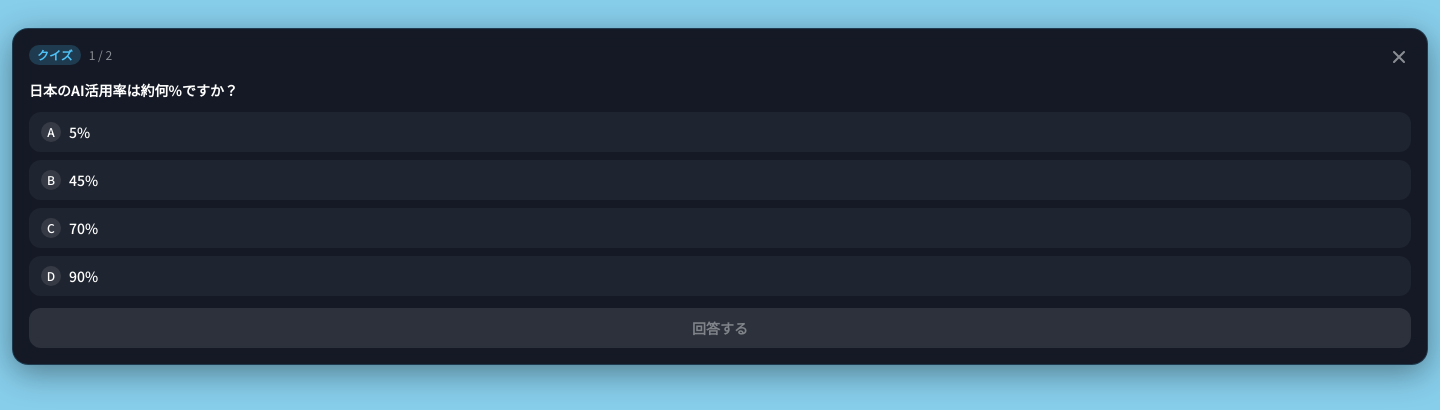
Test: QuizOverlay - correct answer › selecting correct option enables submit button
Click the text "45%" at (84, 180), box 69,170 -> 98,190
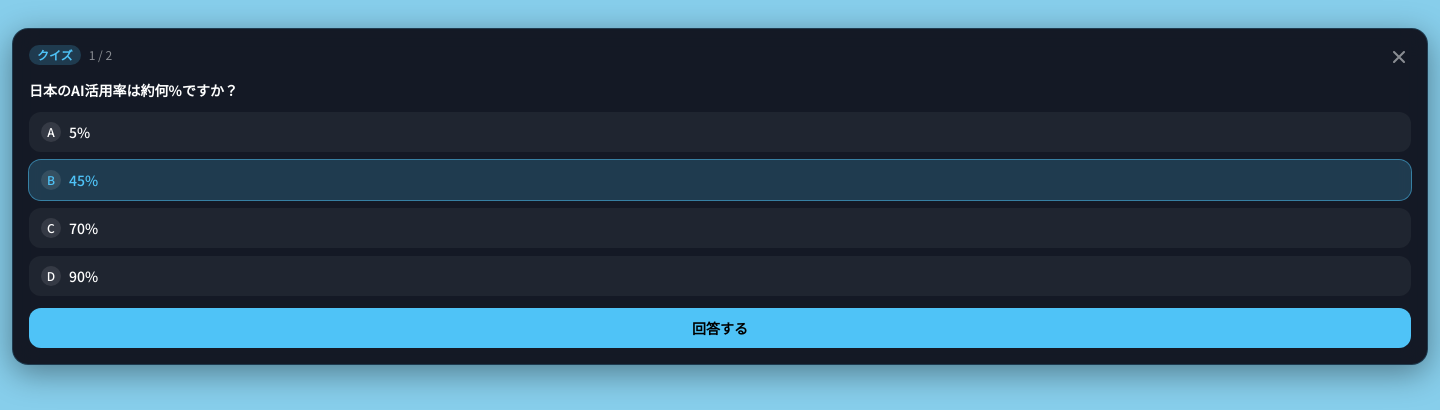
Now the button "回答する" is enabled, box 29,308 -> 1411,348
